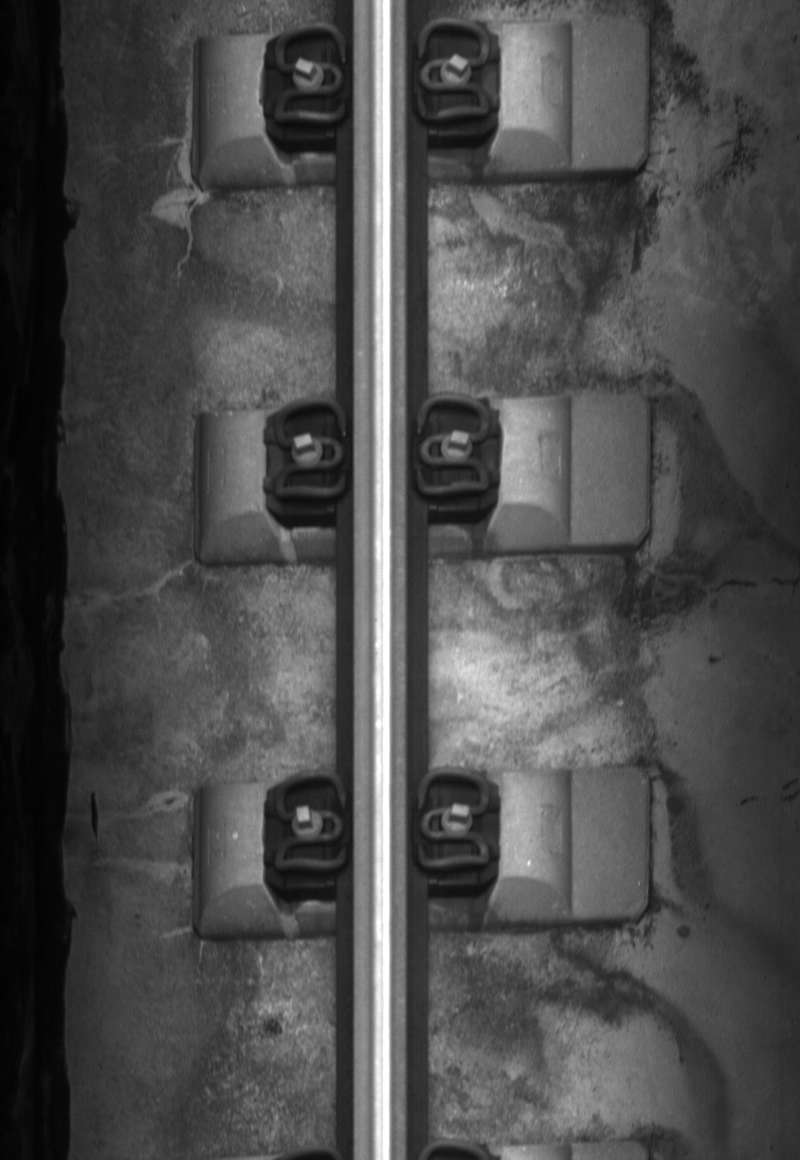l_faster: (268, 767, 351, 883), (267, 392, 352, 505), (268, 19, 351, 133)
r_faster: (411, 10, 493, 129), (413, 764, 492, 873), (413, 391, 490, 498)
